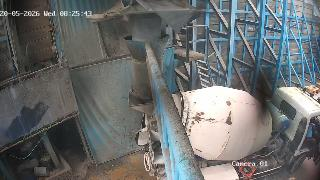cement_mixer_truck: (129, 86, 320, 180)
swing_chute: (123, 36, 169, 100)
